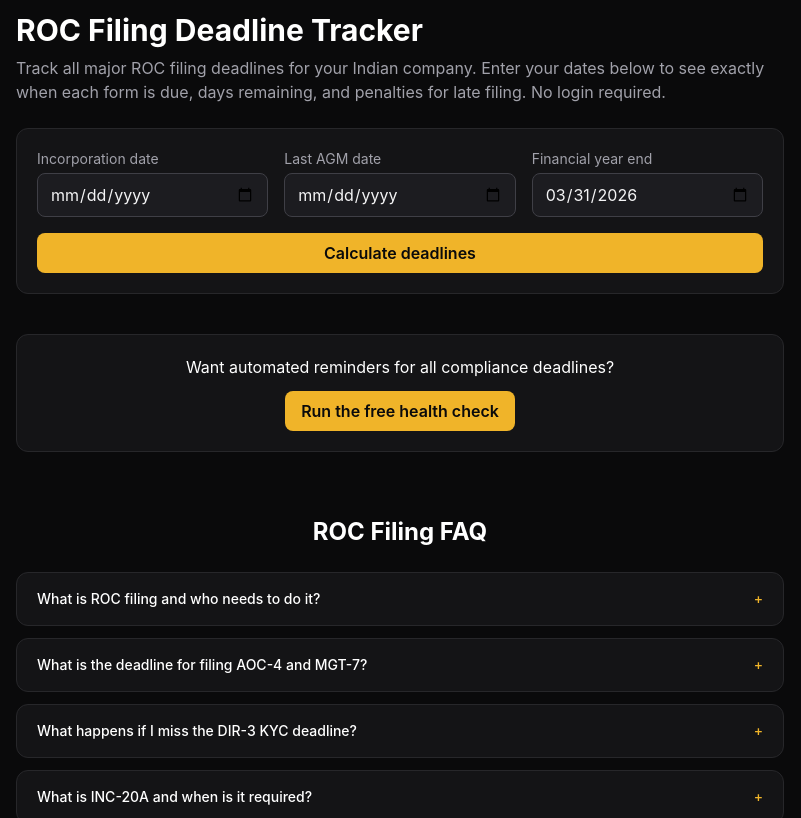
Test: RocFilingTracker › shows summary cards after calculation
Type "2026-09-30" into the date field labelled "Last AGM date" at (400, 195), box [284,173,516,217]
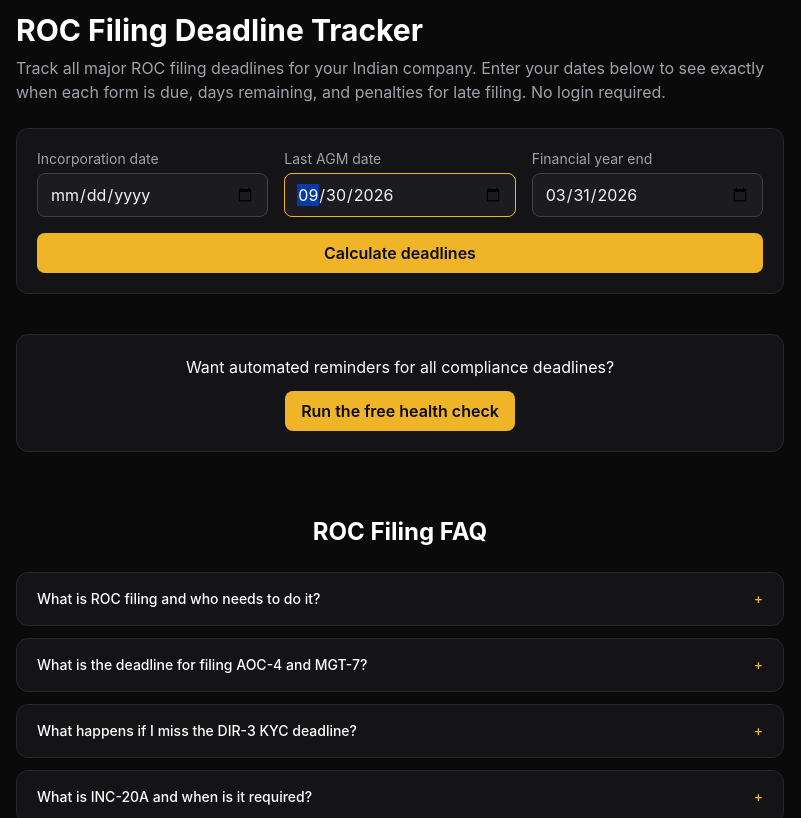
Click the button "Calculate deadlines" at (400, 253), box [37,233,763,273]
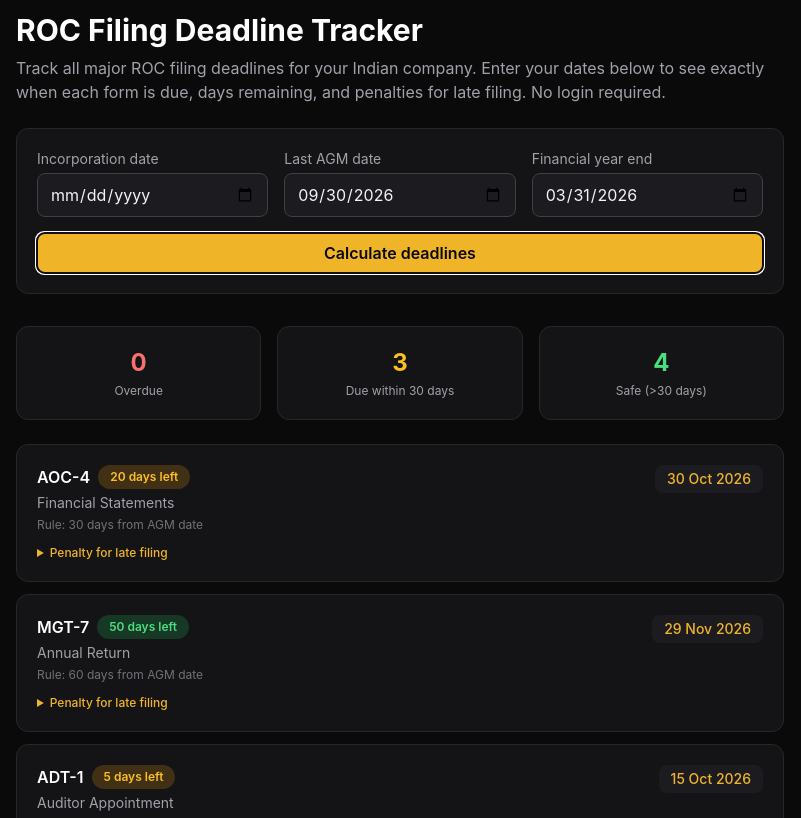
Now the number of elements with test id "summary-card" is 3, box [16,326,261,420]; [277,326,523,420]; [539,326,784,420]
